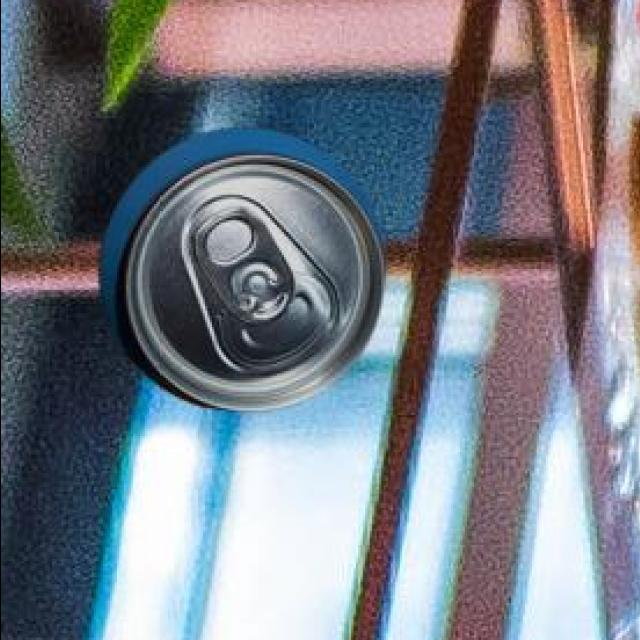logam: (101, 124, 388, 407)
